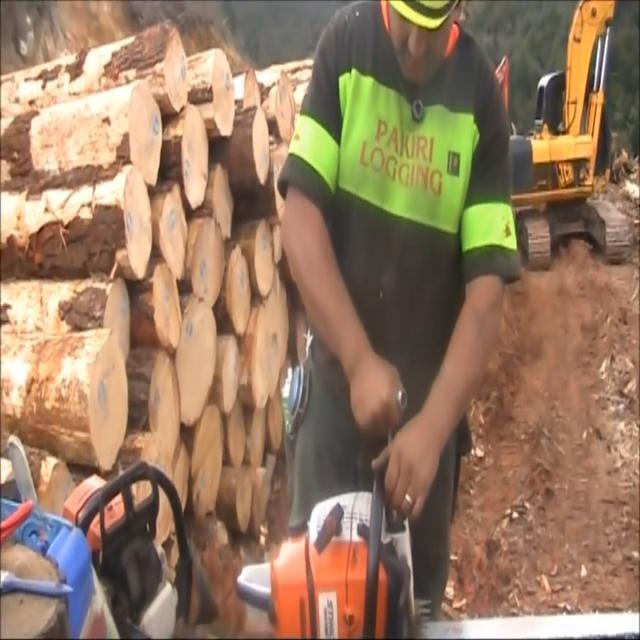Chainsaw: (230, 460, 435, 640)
